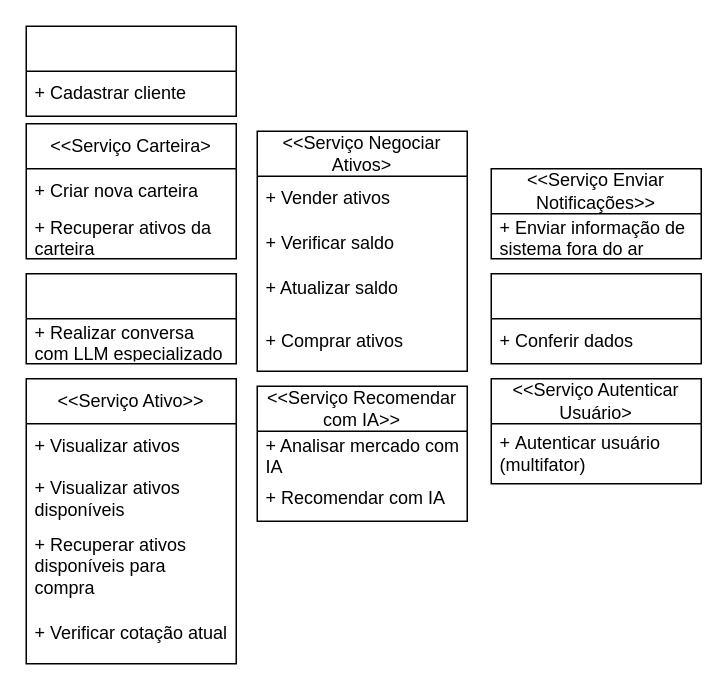
Image size: 728x690. Some labels were removed from this diagram. Here are the shapes that lost their labels. From the top down, the box of each, then its label:
(25, 25, 236, 116): <<Serviço Cliente>>
(25, 272, 236, 364): <<Serviço LLM>>
(490, 272, 701, 364): <<Serviço Validar Dados>>
